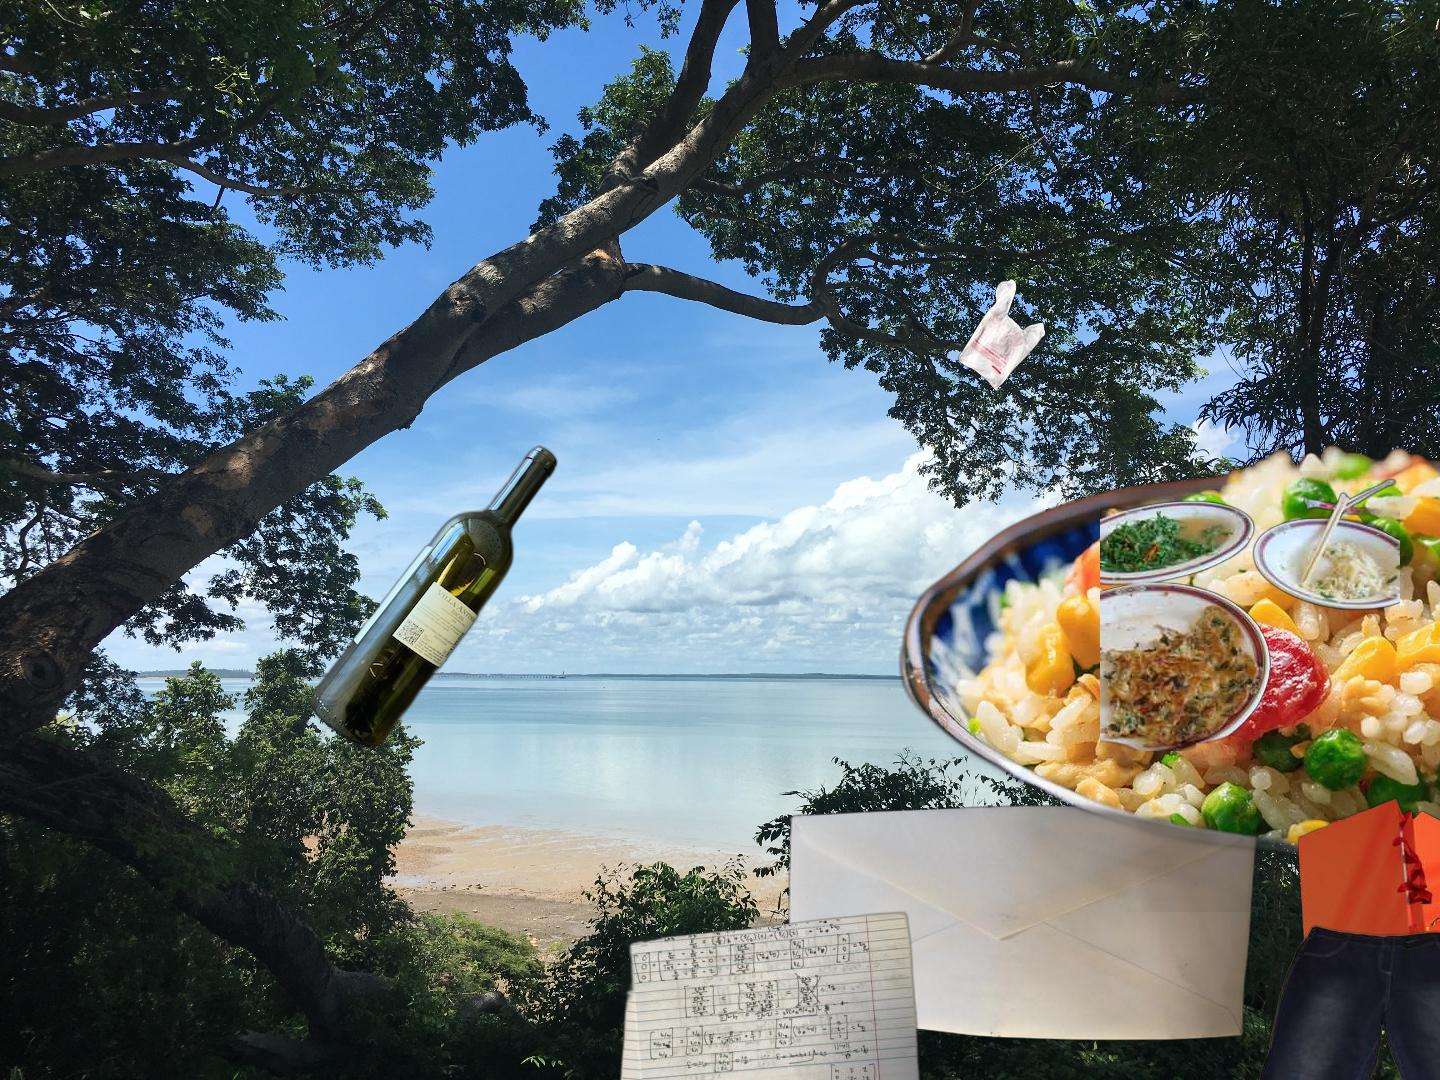biological: (894, 412, 1440, 912), (1100, 471, 1400, 751)
clothes: (1209, 921, 1440, 1080)
glass: (305, 441, 562, 753)
paper: (780, 802, 1259, 1044), (611, 909, 926, 1080)
paper-bag: (1295, 796, 1440, 986)
plastic-bag: (956, 278, 1048, 394)
